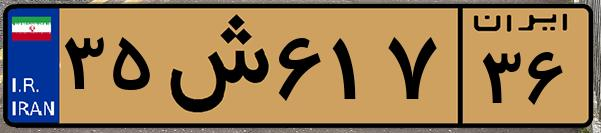1: (330, 28, 385, 110)
3: (57, 26, 110, 100), (475, 38, 525, 113)
5: (110, 28, 158, 98)
6: (270, 28, 330, 110), (525, 38, 570, 115)
7: (385, 28, 445, 110)
ش: (158, 12, 270, 120)
